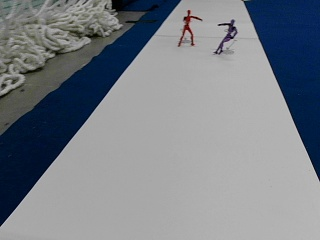pedestrian: (178, 9, 202, 46), (214, 18, 237, 53)
